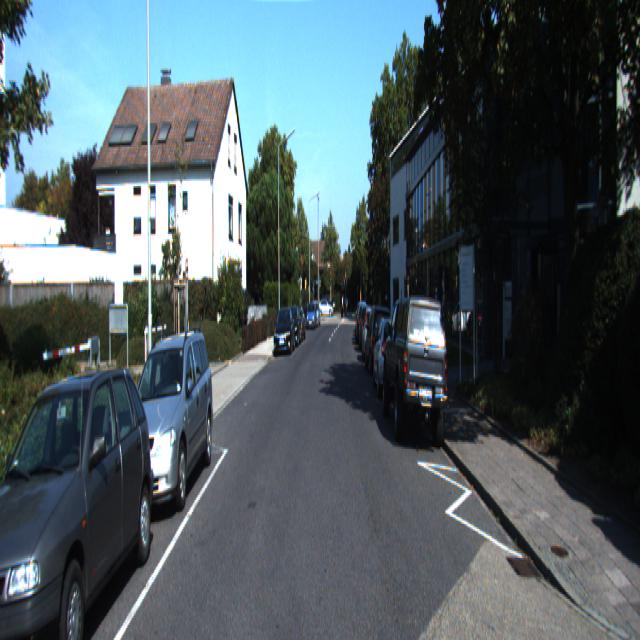Car: (0, 352, 159, 638), (112, 324, 217, 519), (383, 290, 451, 451), (372, 312, 410, 398), (365, 304, 393, 379), (362, 306, 384, 364), (274, 305, 295, 355), (306, 301, 318, 330)
